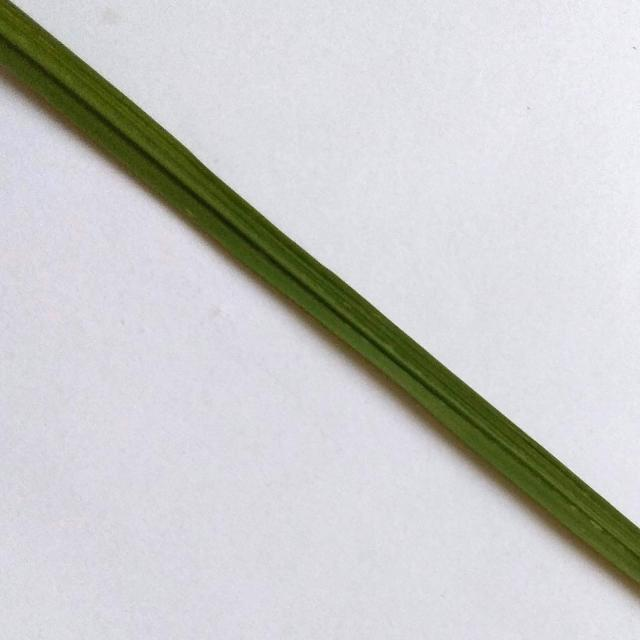healthy: (0, 1, 640, 594)
